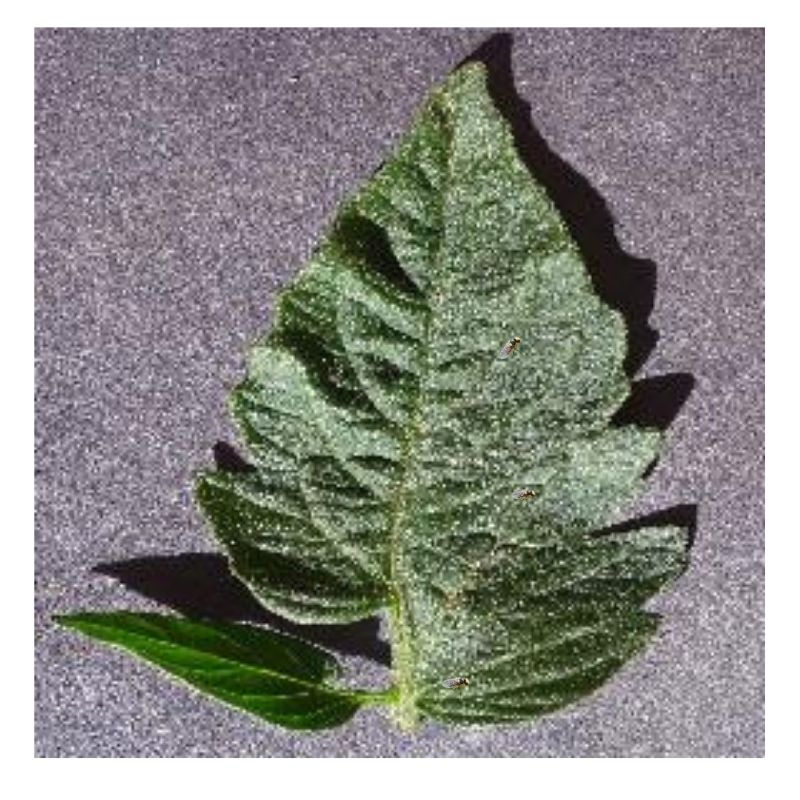liriomyza: (497, 335, 523, 357), (441, 675, 471, 692), (512, 485, 538, 501)
